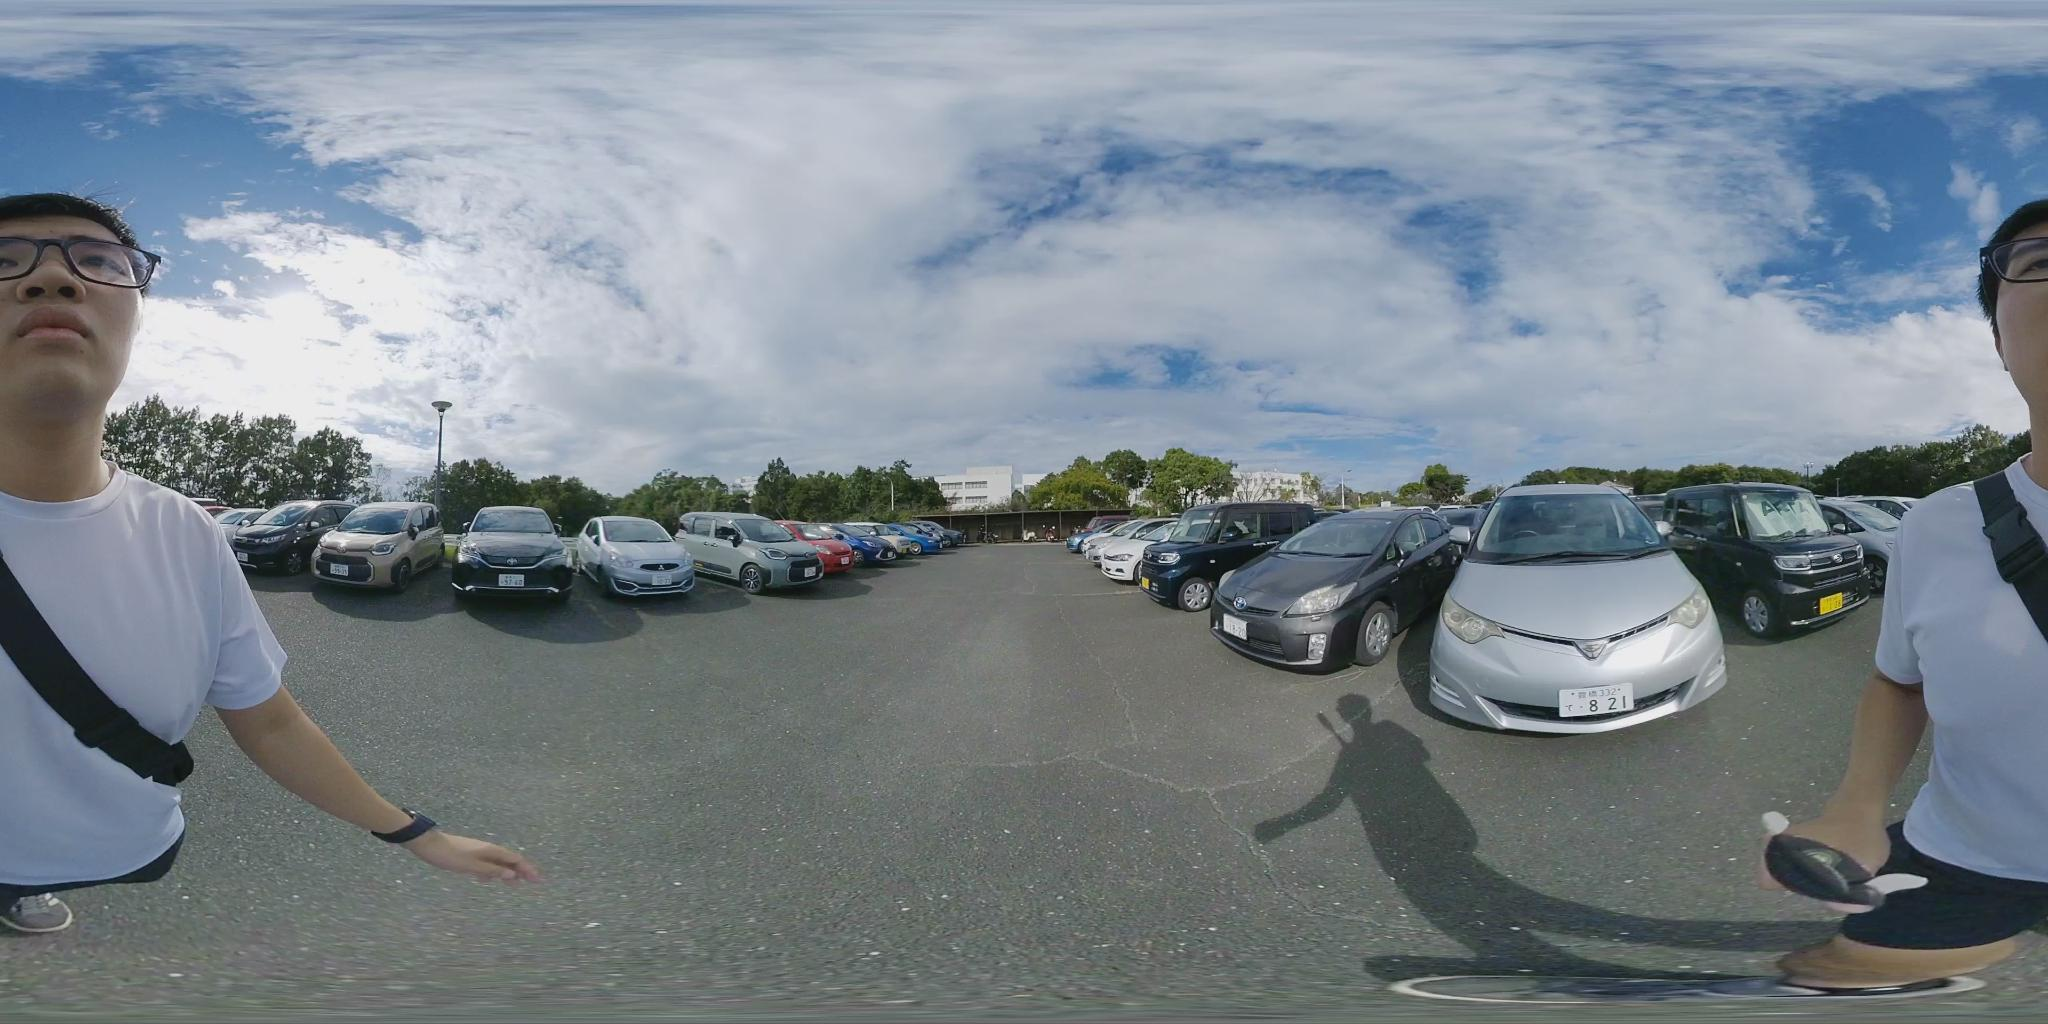car: (1412, 485, 1733, 733), (1212, 505, 1489, 677), (1652, 485, 1894, 641), (1101, 502, 1330, 607), (677, 516, 849, 590), (312, 503, 452, 589), (452, 508, 572, 594), (575, 517, 704, 597), (213, 502, 354, 571), (825, 524, 897, 564), (865, 524, 948, 556)
